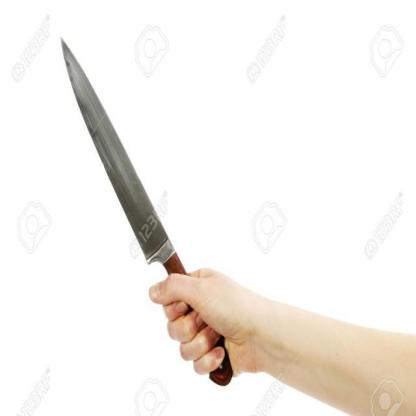Knife: (54, 26, 218, 362)
